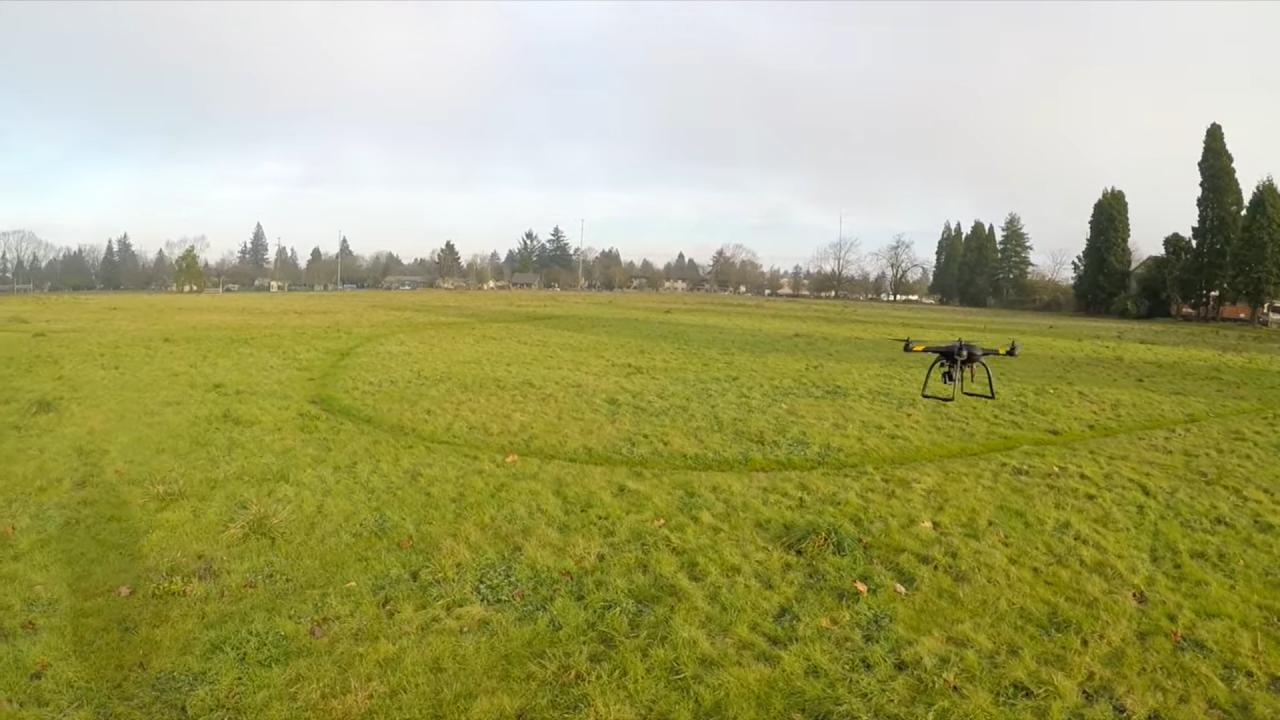Drone: (890, 327, 1031, 420)
